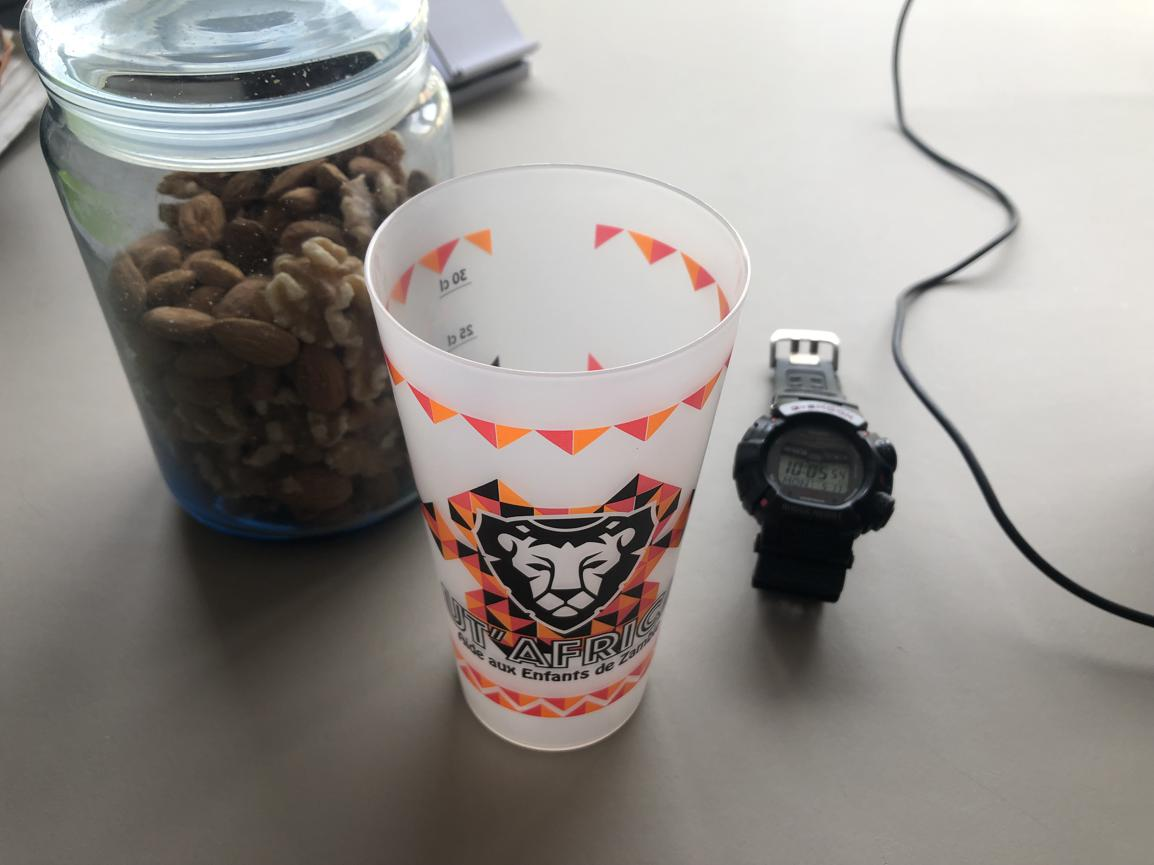ecocup: (360, 158, 756, 755)
